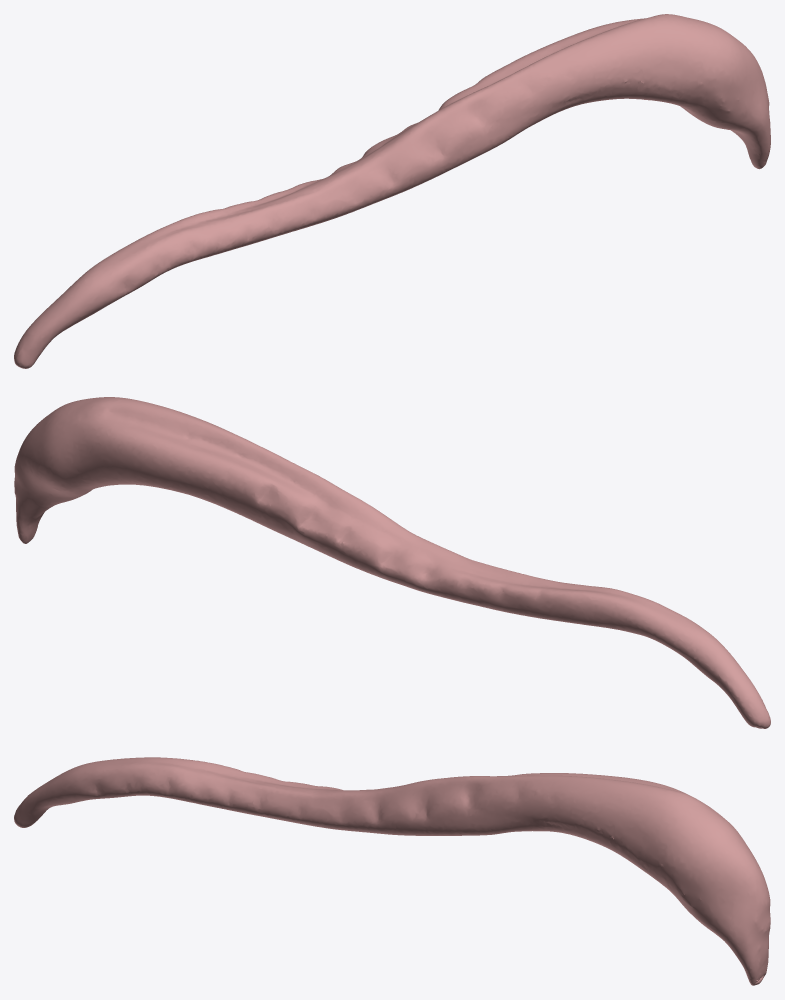
The model's file is blaschka_glass_model_of_a_syllid_worm (1).glb.
3 renders of one model, top to bottom at view 1: azimuth 30°, elevation 25°; view 2: azimuth 150°, elevation 25°; view 3: azimuth 330°, elevation 25°, orthographic.
Parts seen in each view (by area): view 1: Object_4; view 2: Object_4; view 3: Object_4.
Boxes of the visible parts, x1,y1,x2,y2 form: Object_4: (14, 14, 770, 368); Object_4: (14, 397, 770, 728); Object_4: (14, 757, 770, 985).
Bounding box in the file's own units: 91.82 × 21.49 × 10.6.
